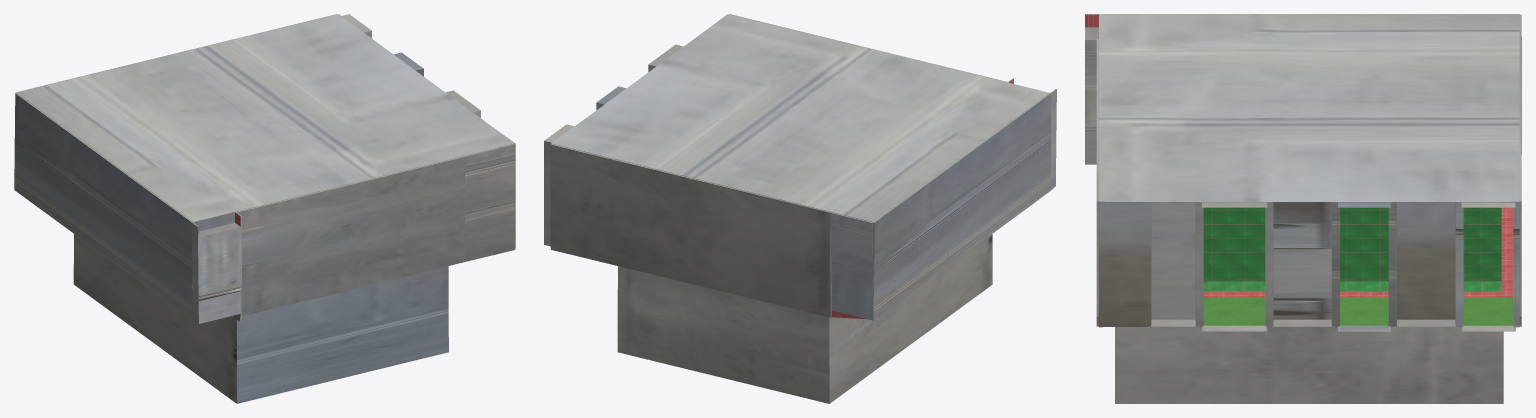
File: ingul.obj
3 renders of one model, left to right at view 1: azimuth 30°, elevation 25°; view 2: azimuth 150°, elevation 25°; view 3: azimuth 270°, elevation 25°, orthographic. The views are drawn at different scales.
Visible parts, largest first — view 1: Plane; view 2: Plane; view 3: Plane.
Part boxes in pixels (x1=…): Plane: x1=14, y1=14, x2=515, y2=403; Plane: x1=544, y1=14, x2=1056, y2=403; Plane: x1=1085, y1=14, x2=1521, y2=403.
Bounding box in the file's own units: 13.24 × 7.58 × 12.66.
